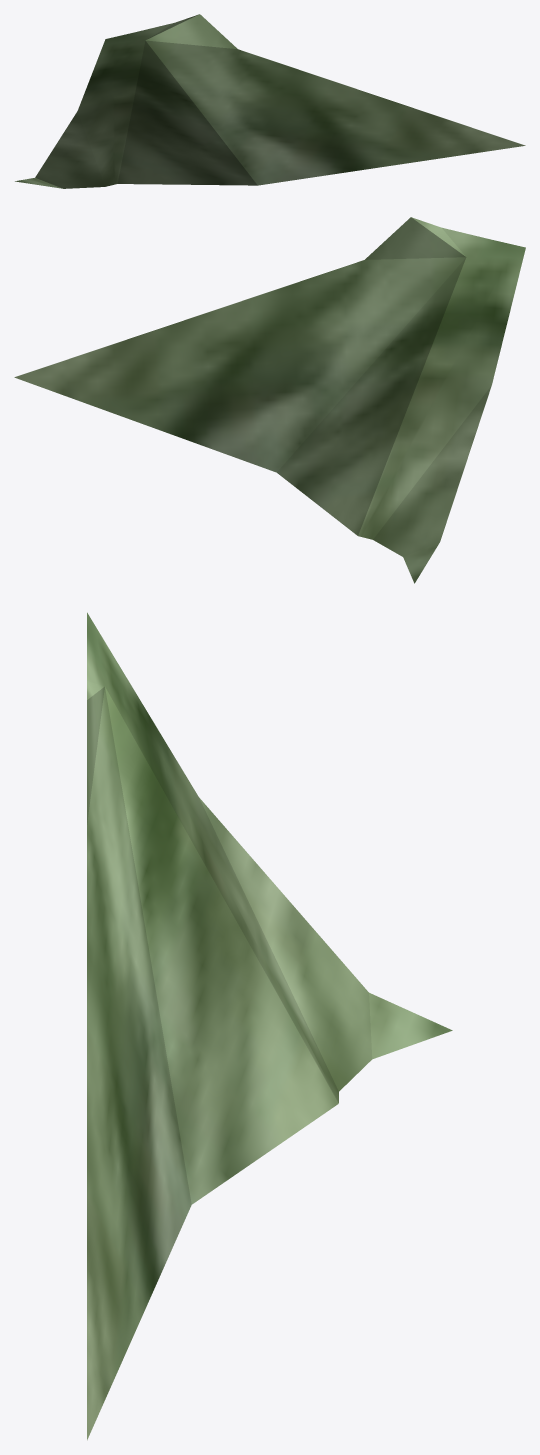
The picture shows the model from 3 angles, top to bottom: view 1: azimuth 30°, elevation 25°; view 2: azimuth 150°, elevation 25°; view 3: azimuth 270°, elevation 25°; orthographic projection. The views are drawn at different scales.
Bounding box in the file's own units: 0.9208 × 0.442 × 0.3471.
Materials: 1 (1 with a texture image).
